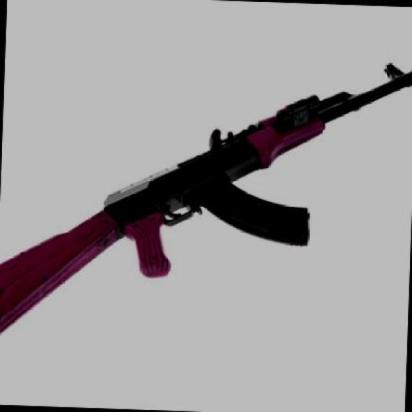Gun: (0, 30, 410, 356)
